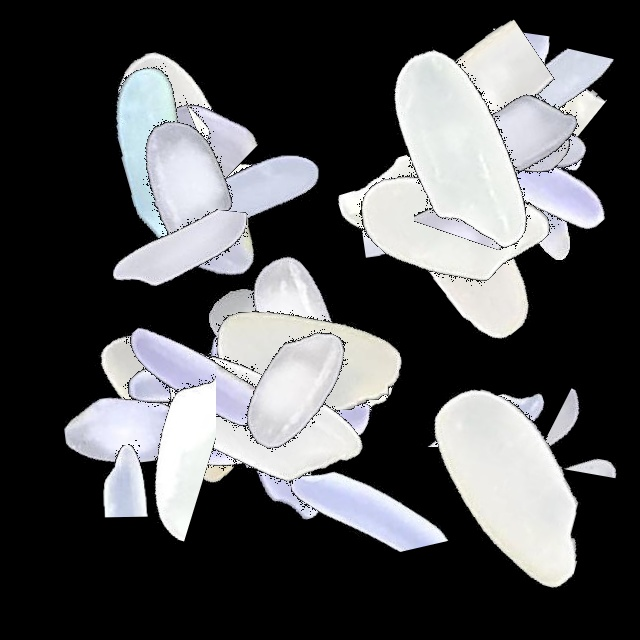Broken: (51, 206, 301, 370), (235, 398, 485, 558), (209, 207, 369, 457), (315, 138, 565, 297), (468, 0, 627, 250), (52, 39, 302, 193), (348, 19, 598, 170), (87, 302, 216, 552), (390, 54, 640, 177), (100, 305, 219, 555), (414, 53, 533, 303), (158, 359, 408, 468), (316, 340, 566, 447), (518, 294, 617, 544), (537, 340, 633, 590), (78, 345, 172, 595), (340, 25, 590, 116), (112, 88, 362, 177), (440, 0, 525, 250), (104, 61, 354, 143)
Full: (112, 261, 362, 511), (137, 299, 387, 549), (390, 53, 640, 303), (48, 280, 298, 530), (54, 17, 304, 267), (161, 280, 411, 530), (140, 211, 390, 461), (342, 128, 592, 378), (312, 79, 562, 329), (79, 96, 329, 346), (31, 37, 281, 287), (332, 12, 582, 262), (173, 207, 423, 457), (363, 28, 613, 278), (365, 0, 615, 250), (390, 46, 640, 296), (0, 306, 250, 556), (380, 361, 630, 611), (390, 6, 640, 256), (390, 0, 640, 250), (143, 303, 393, 553), (325, 94, 575, 344), (185, 233, 435, 483), (133, 291, 383, 541), (78, 255, 328, 505), (127, 72, 377, 322), (58, 67, 308, 317), (168, 261, 418, 511), (390, 13, 640, 263), (338, 22, 588, 272)
